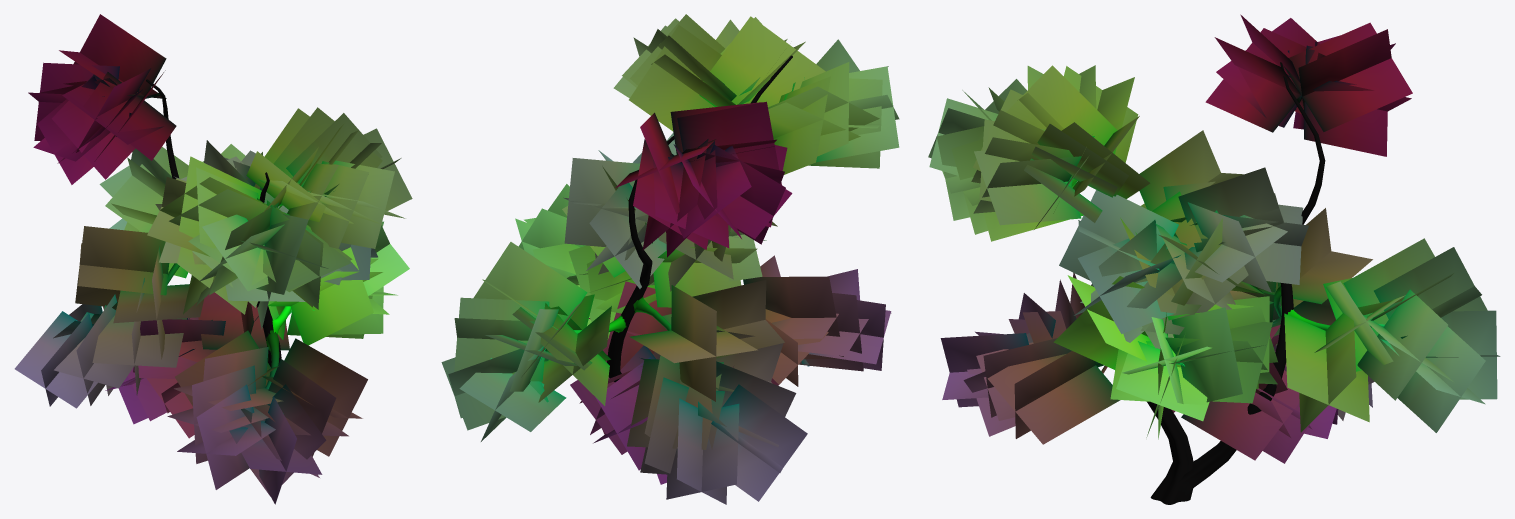
The model's file is URP_P14_Tree_10_LOD_0.fbx.
3 renders of one model, left to right at view 1: azimuth 30°, elevation 25°; view 2: azimuth 150°, elevation 25°; view 3: azimuth 270°, elevation 25°, orthographic. The views are drawn at different scales.
Parts seen in each view (by area): view 1: Tree_10_LOD_0; view 2: Tree_10_LOD_0; view 3: Tree_10_LOD_0.
Part boxes in pixels (bbox=[...]): Tree_10_LOD_0: bbox=[14, 14, 412, 504]; Tree_10_LOD_0: bbox=[441, 14, 899, 504]; Tree_10_LOD_0: bbox=[928, 14, 1500, 504].
Size of the model in its own units: 398 by 458 by 562.
